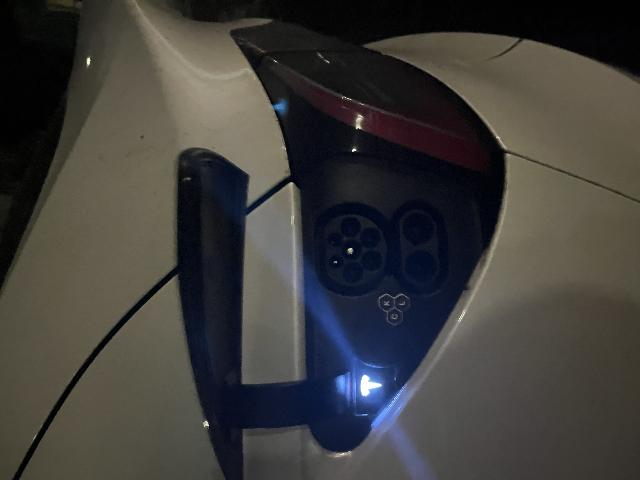inlet: (193, 325, 266, 387)
inlet-above-left: (211, 329, 225, 343)
inlet-above-right: (233, 328, 248, 343)
inlet-below-left: (209, 361, 230, 382)
inlet-below-right: (232, 360, 253, 381)
inlet-circle: (221, 341, 240, 362)
inlet-circle-left: (197, 342, 217, 362)
inlet-circle-right: (242, 340, 262, 361)
inlet-minus: (234, 402, 268, 434)
inlet-plus: (198, 405, 230, 437)
